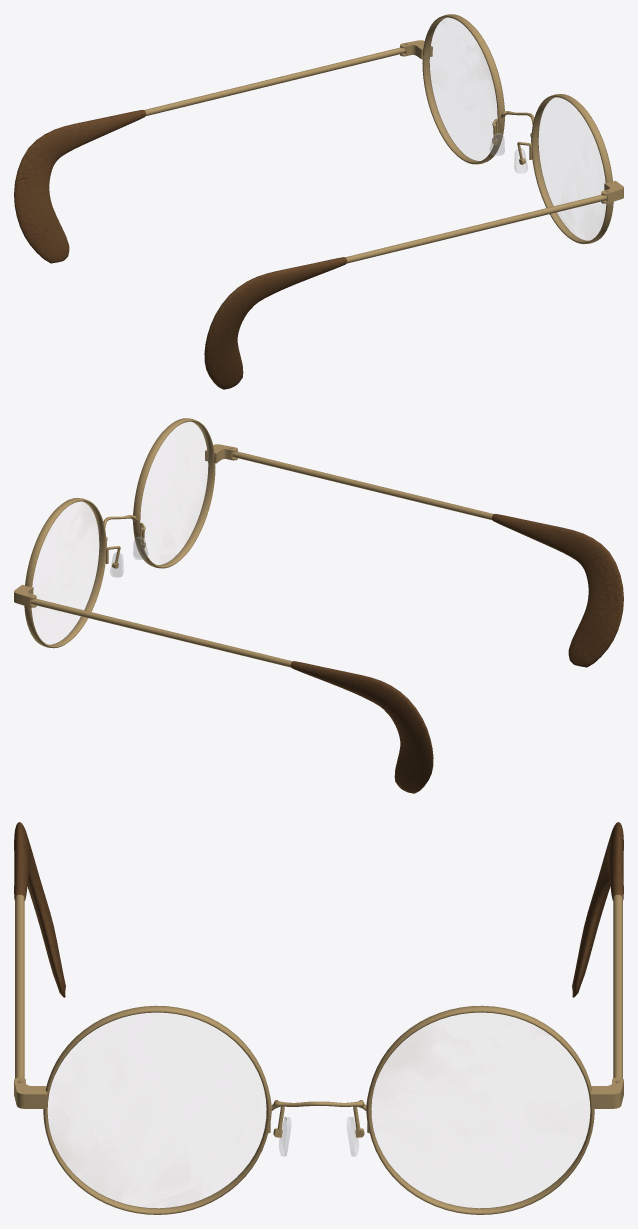
Rendered from glasses (1).glb.
The picture shows the model from 3 angles, top to bottom: view 1: azimuth 30°, elevation 25°; view 2: azimuth 150°, elevation 25°; view 3: azimuth 270°, elevation 25°; orthographic projection. The views are drawn at different scales.
Parts seen in each view (by area): view 1: Circle; view 2: Circle; view 3: Circle.
Boxes of the visible parts, x1,y1,x2,y2 form: Circle: (14,14,623,389); Circle: (14,418,623,793); Circle: (14,822,623,1214).
Size of the model in its own units: 0.1674 by 0.066 by 0.1408.
1 material, 1 textured.
